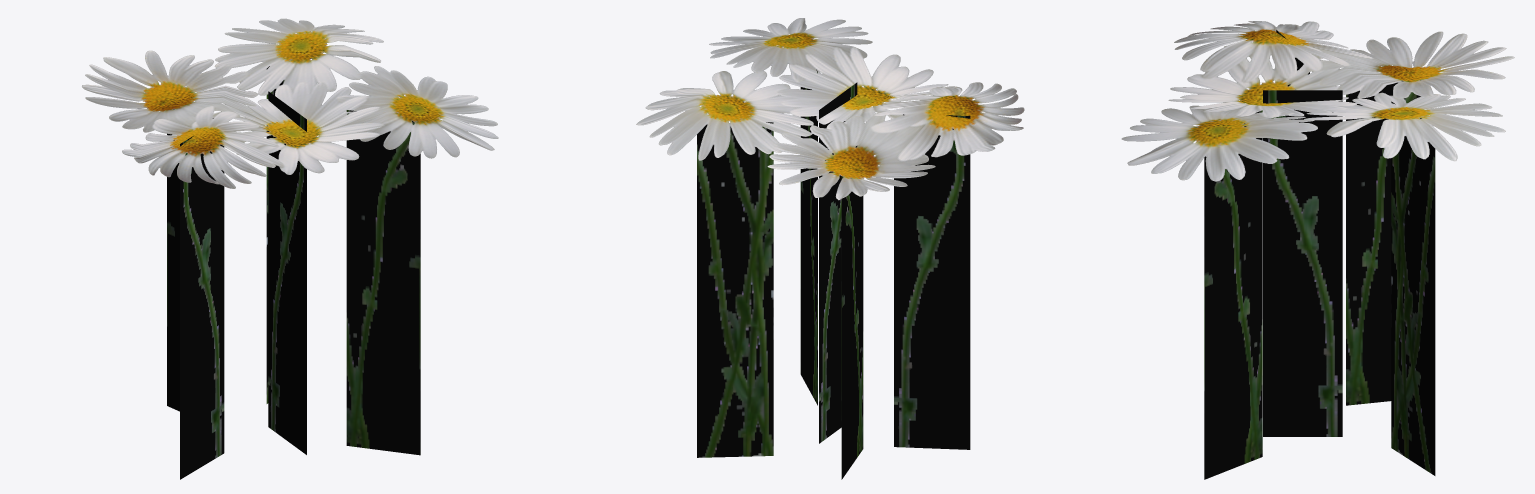
The model's file is daisies.fbx.
3 renders of one model, left to right at view 1: azimuth 30°, elevation 25°; view 2: azimuth 150°, elevation 25°; view 3: azimuth 270°, elevation 25°, orthographic. The views are drawn at different scales.
Parts seen in each view (by area): view 1: daisy_stem5; view 2: daisy_stem5; view 3: daisy_stem5.
Boxes of the visible parts, bbox=[...] form: daisy_stem5: bbox=[82, 18, 498, 479]; daisy_stem5: bbox=[636, 18, 1024, 479]; daisy_stem5: bbox=[1121, 21, 1514, 479].
Bounding box in the file's own units: 50.16 × 50 × 50.13.
